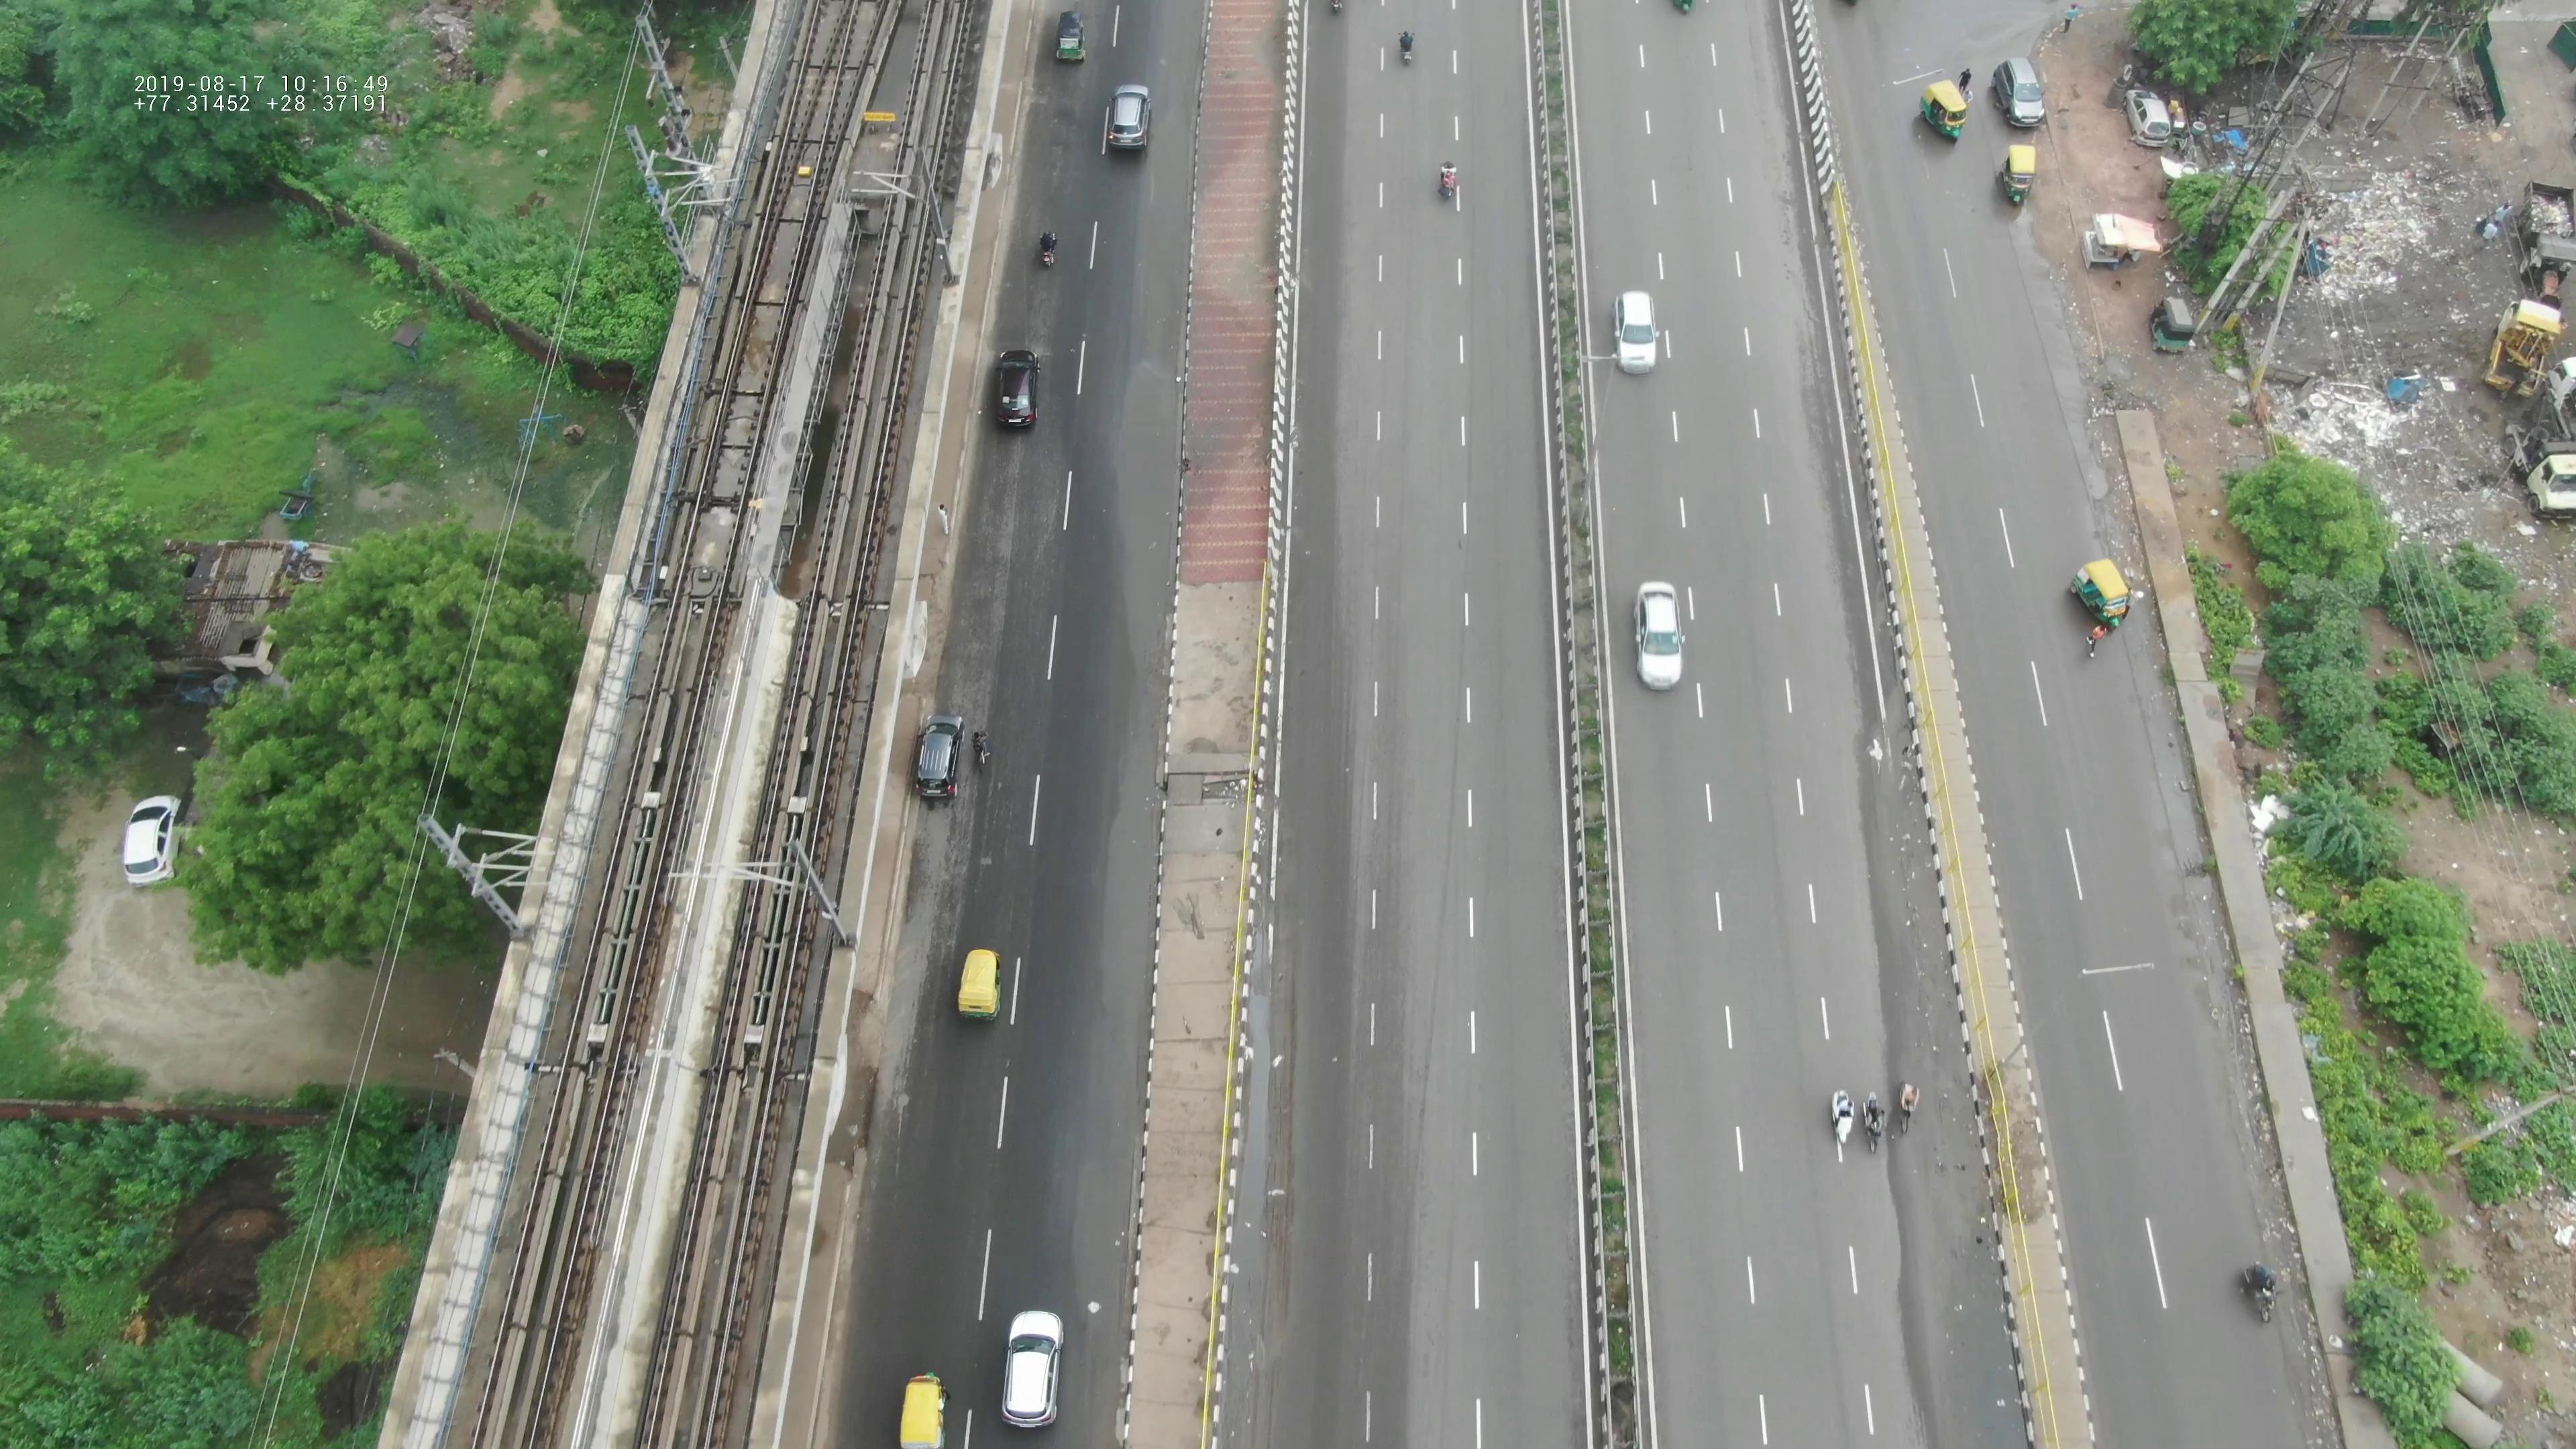Muddy_road: (1233, 993, 1316, 1214)
